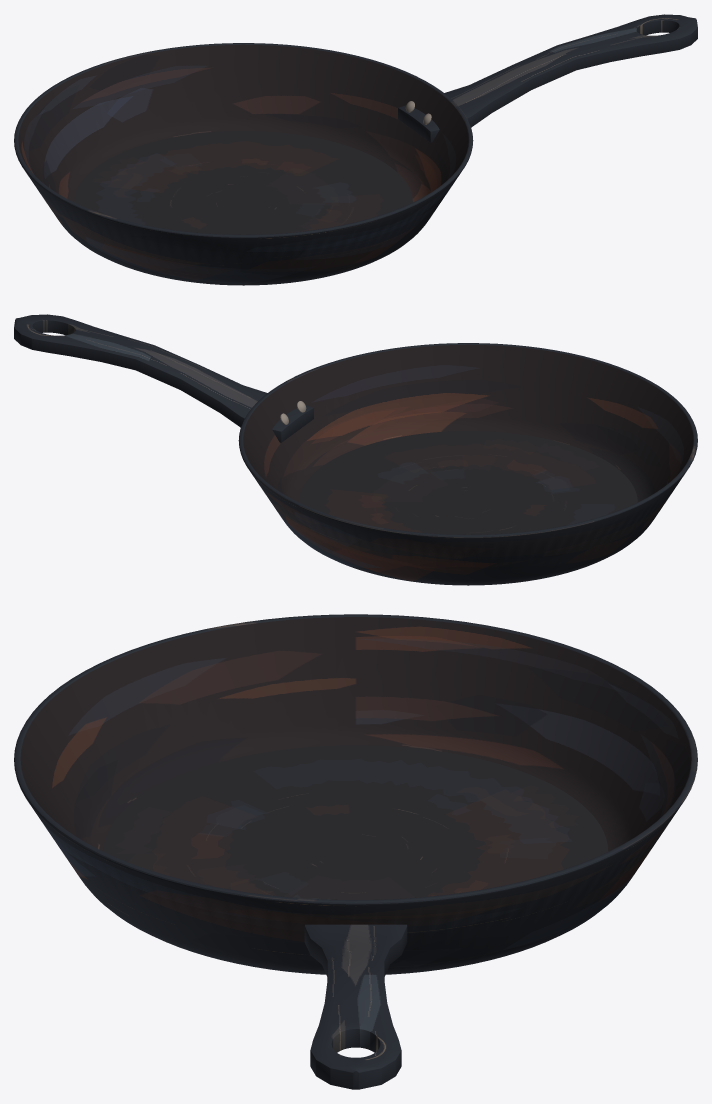
The model's file is frying_pan.glb.
The picture shows the model from 3 angles, top to bottom: view 1: azimuth 30°, elevation 25°; view 2: azimuth 150°, elevation 25°; view 3: azimuth 270°, elevation 25°; orthographic projection. The views are drawn at different scales.
Visible parts, largest first — view 1: Pan_Interior, Pan_Seasoned_Cooking_Floor, Pan_Body, Pan_Forged_Handle; view 2: Pan_Interior, Pan_Seasoned_Cooking_Floor, Pan_Body, Pan_Forged_Handle; view 3: Pan_Interior, Pan_Seasoned_Cooking_Floor, Pan_Body, Pan_Forged_Handle.
Boxes of the visible parts, x1,y1,x2,y2 form: Pan_Interior: (18, 44, 468, 202); Pan_Seasoned_Cooking_Floor: (74, 131, 412, 234); Pan_Body: (14, 43, 473, 285); Pan_Forged_Handle: (398, 14, 697, 142); Pan_Interior: (243, 344, 693, 502); Pan_Seasoned_Cooking_Floor: (299, 431, 637, 534); Pan_Body: (238, 343, 697, 585); Pan_Forged_Handle: (14, 314, 313, 442); Pan_Interior: (20, 617, 691, 851); Pan_Seasoned_Cooking_Floor: (103, 745, 608, 899); Pan_Body: (14, 614, 697, 974); Pan_Forged_Handle: (304, 924, 407, 1089).
Bounding box in the file's own units: 0.393 × 0.0491 × 0.24.
6 materials, 5 textured.
